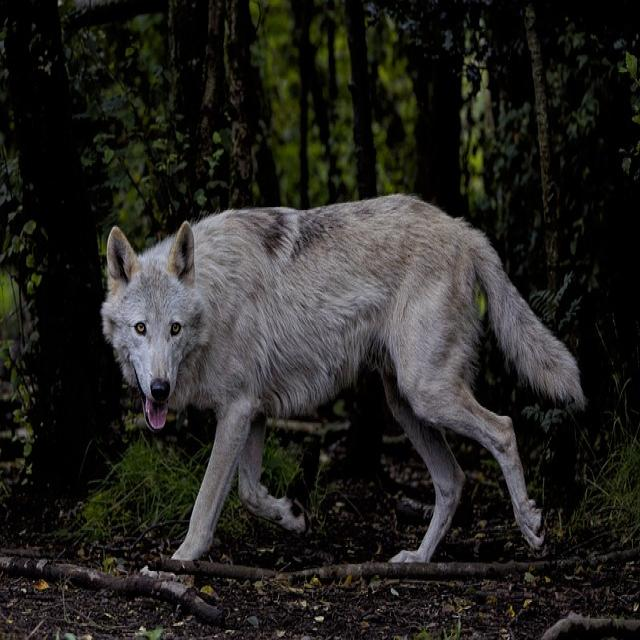Carnivorous: (99, 193, 588, 570)
